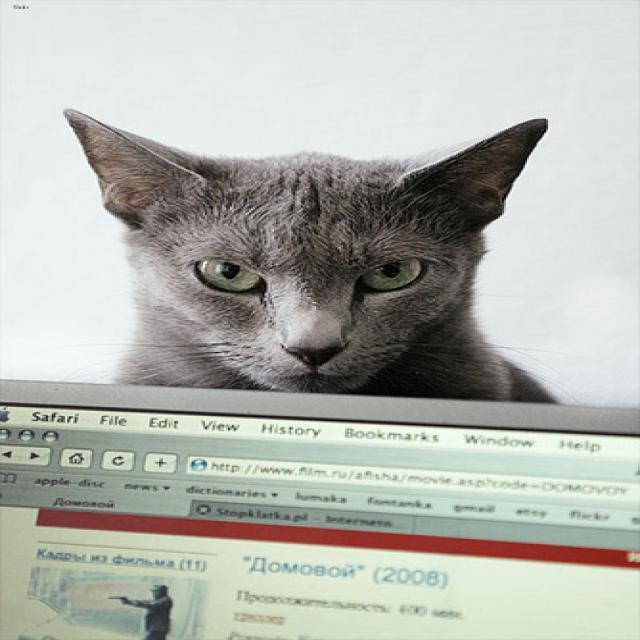Russian_Blue: (54, 103, 557, 394)
